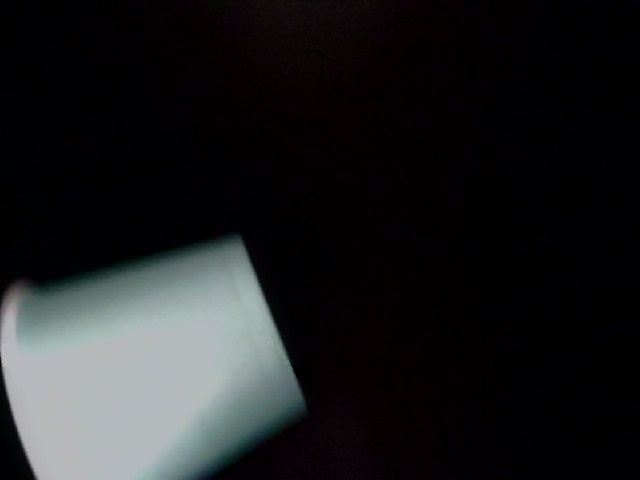KHSLJ: (163, 1, 640, 132)
